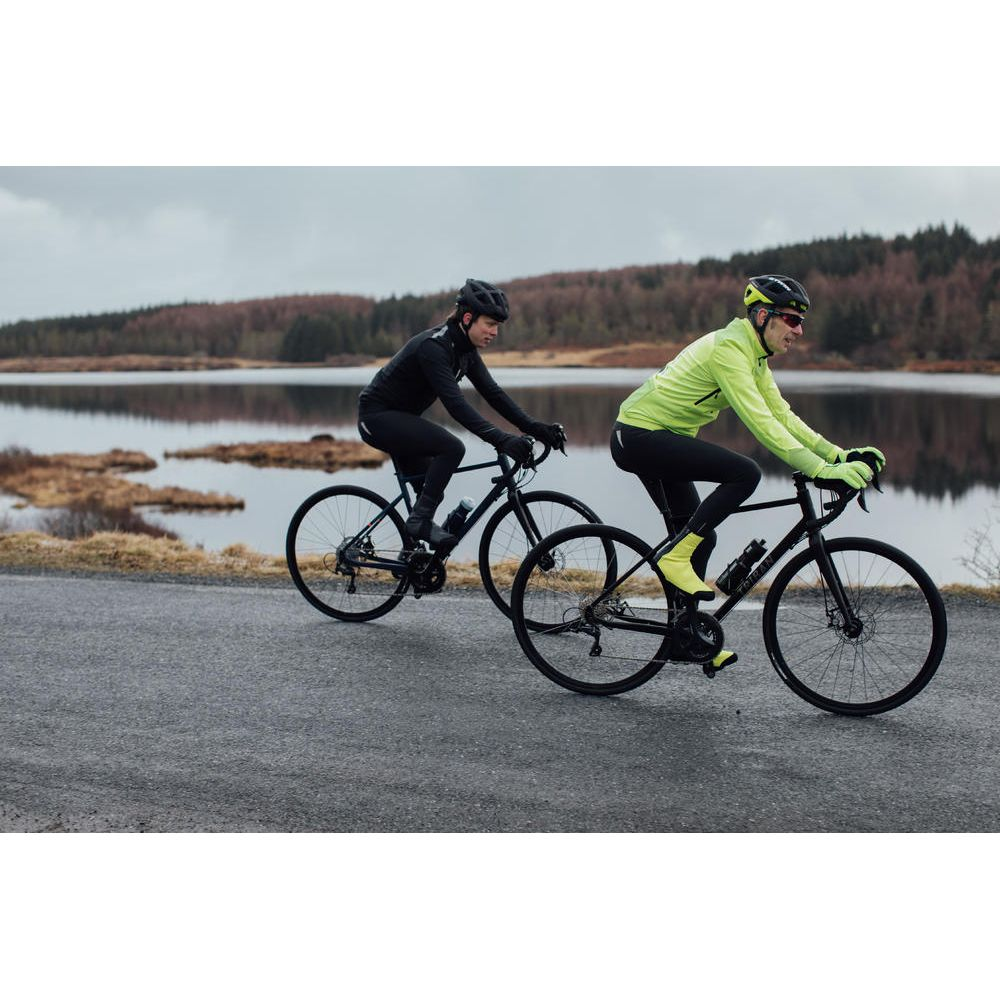RoadBike: (506, 467, 962, 723), (294, 412, 613, 656)
